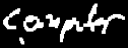computer: (0, 0, 128, 48)
